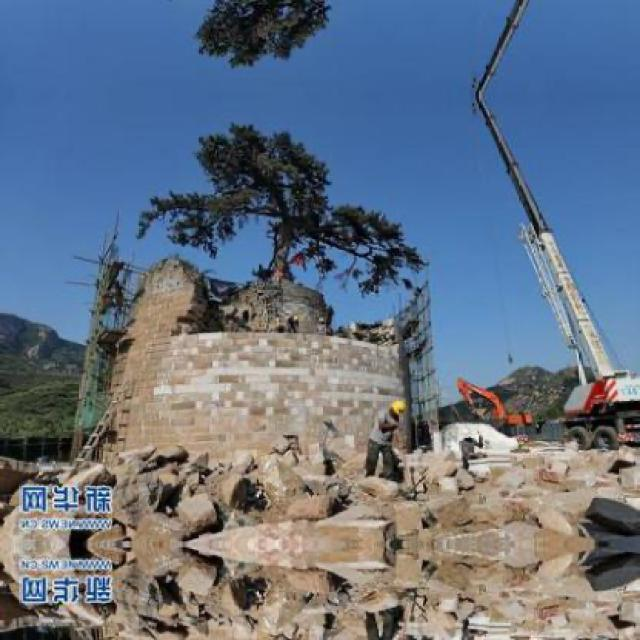con casco: (376, 390, 408, 434)
